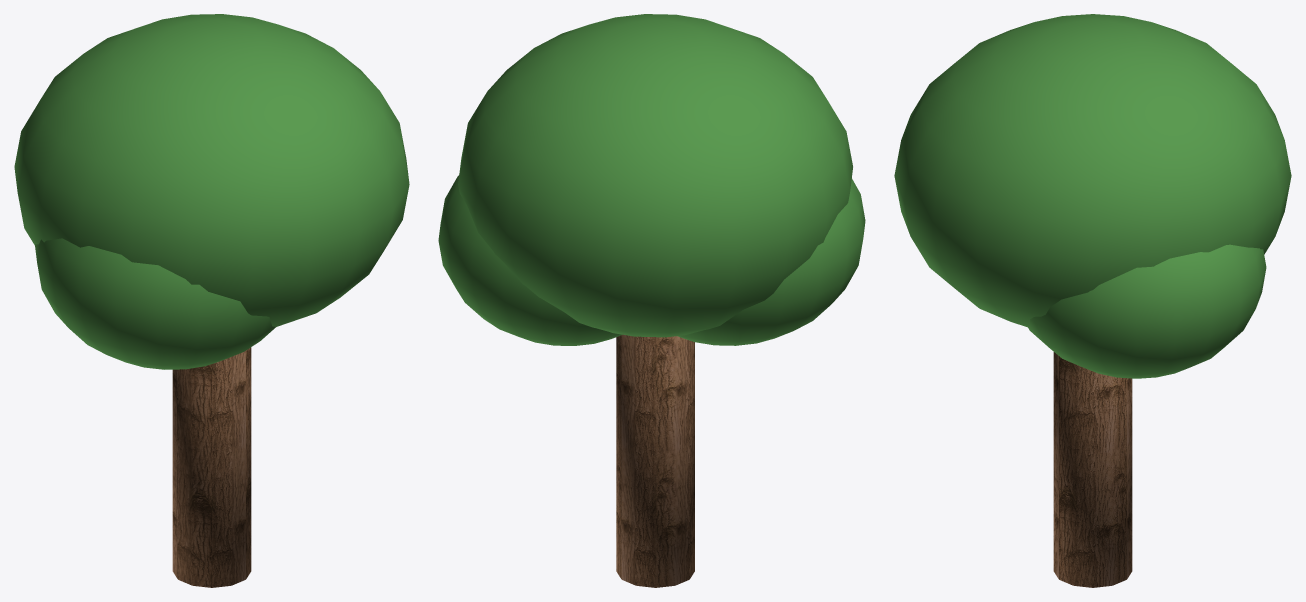
Rendered from tree.glb.
The picture shows the model from 3 angles, left to right: view 1: azimuth 30°, elevation 25°; view 2: azimuth 150°, elevation 25°; view 3: azimuth 270°, elevation 25°; orthographic projection.
Visible parts, largest first — view 1: Tree; view 2: Tree; view 3: Tree.
Part boxes in pixels (bbox=[...]): Tree: bbox=[14, 14, 409, 587]; Tree: bbox=[438, 14, 865, 587]; Tree: bbox=[894, 14, 1291, 587].
Size of the model in its own units: 1.88 by 2.7 by 1.82.
Materials: 2 (1 with a texture image).
